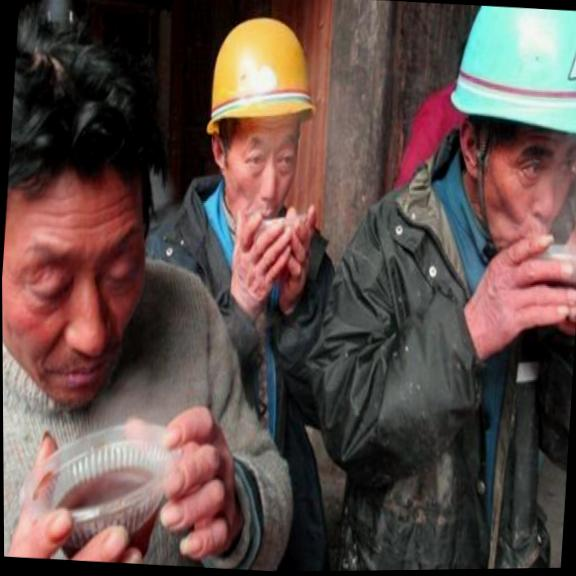no_safety_vest: (313, 212, 576, 571), (134, 174, 346, 574), (2, 236, 238, 571)
